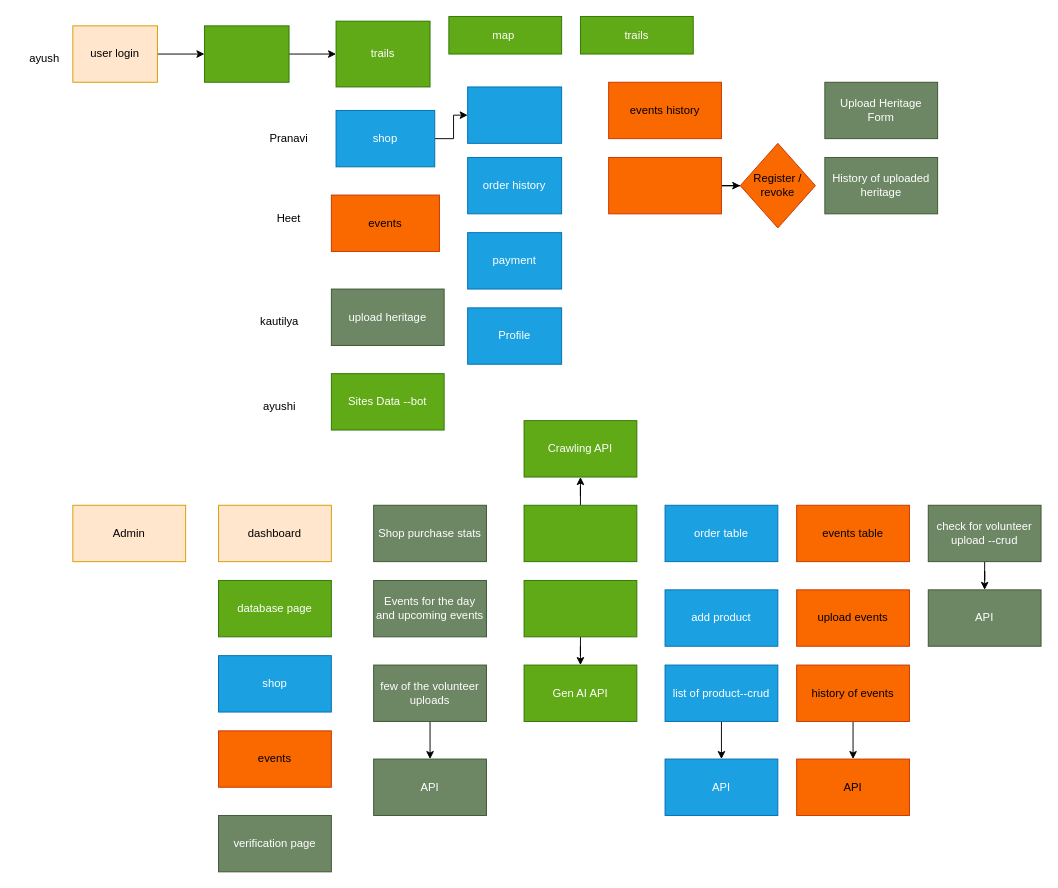
This 1058x888 diagram has some shape labels left out. The centre of each missing label's shape, as x and y in pixels:
chatbot: [580,608]
home: [664,185]
home page: [246,53]
home/items: [514,114]
map + table: [580,533]
